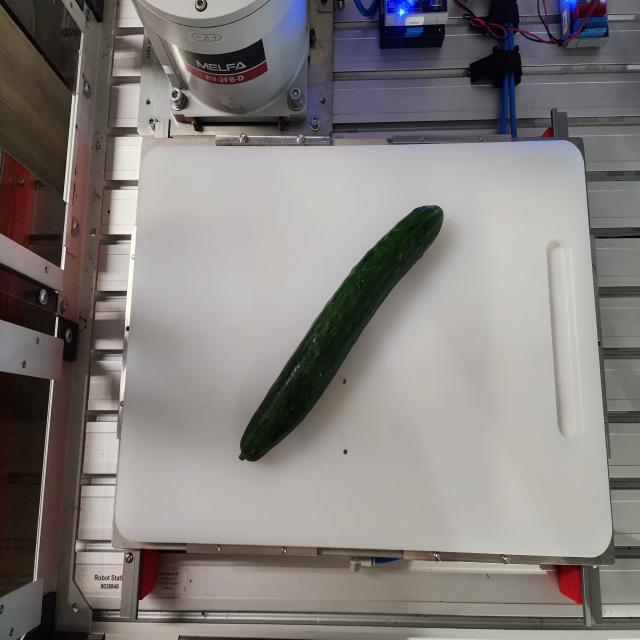cucumber: (238, 203, 444, 462)
